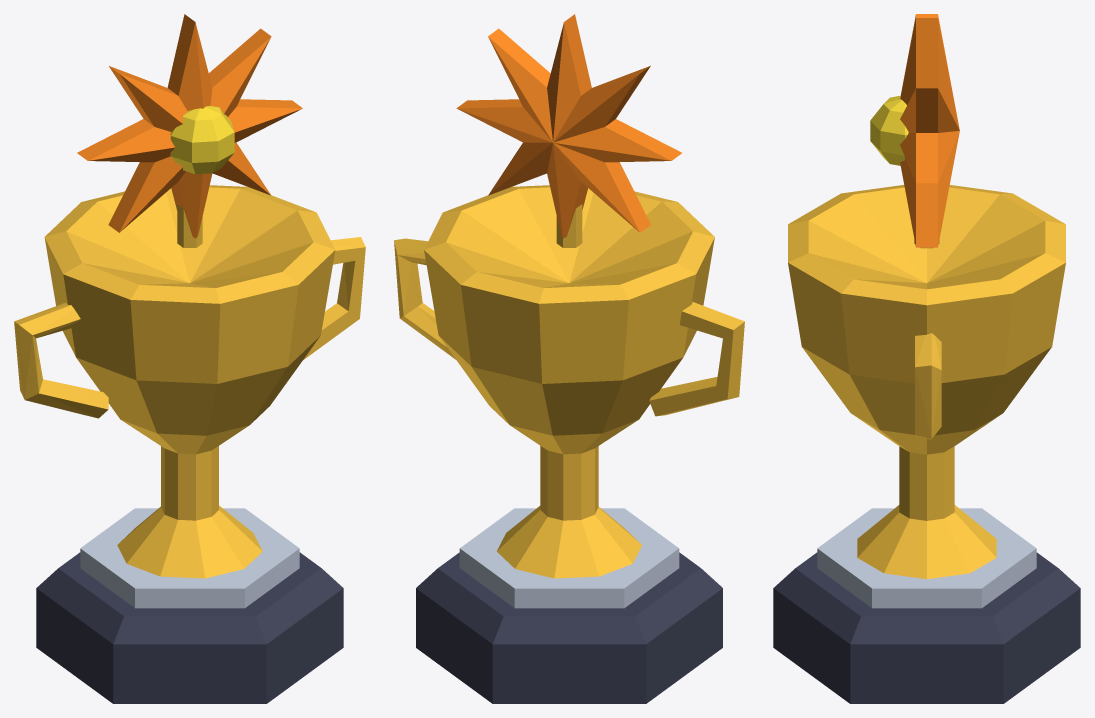
The model's file is trophy_supernova.obj.
The picture shows the model from 3 angles, left to right: view 1: azimuth 30°, elevation 25°; view 2: azimuth 150°, elevation 25°; view 3: azimuth 270°, elevation 25°; orthographic projection.
Size of the model in its own units: 1.09 by 1.9 by 0.84.
